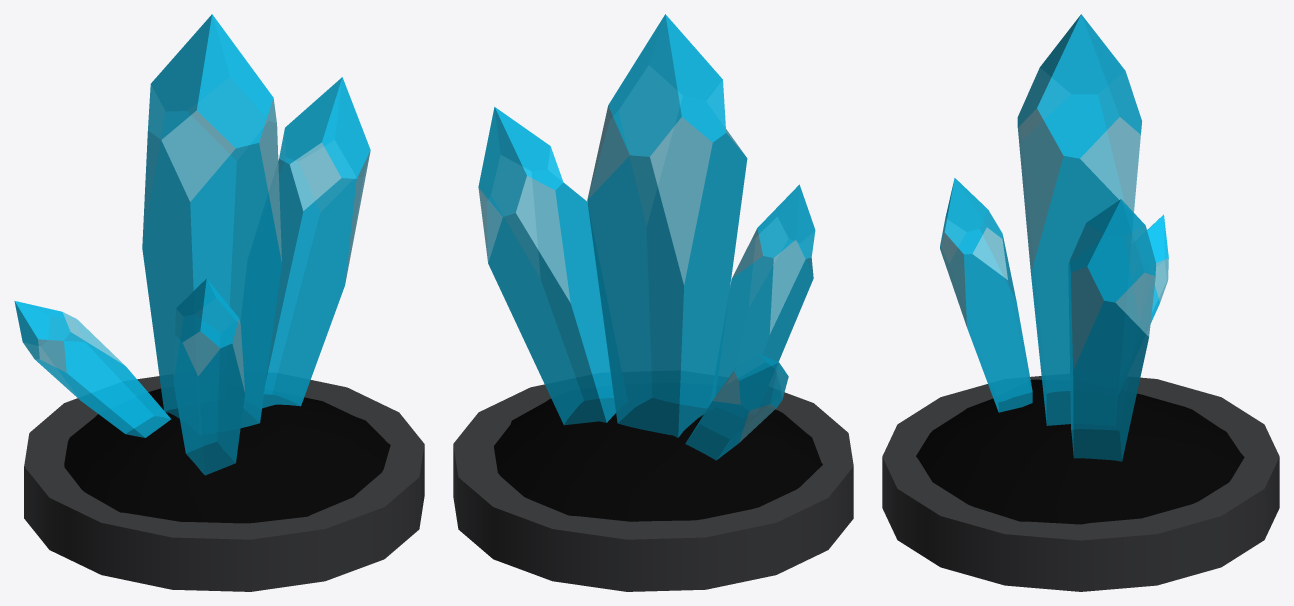
Rendered from Crystals_Blue.fbx.
3 renders of one model, left to right at view 1: azimuth 30°, elevation 25°; view 2: azimuth 150°, elevation 25°; view 3: azimuth 270°, elevation 25°, orthographic.
Parts seen in each view (by area): view 1: Crystals_Blue; view 2: Crystals_Blue; view 3: Crystals_Blue.
Part boxes in pixels (box(x1,y1,x2,y2)): Crystals_Blue: box(14, 14, 424, 591); Crystals_Blue: box(453, 14, 853, 591); Crystals_Blue: box(882, 14, 1279, 591).
Size of the model in its own units: 0.2472 by 0.3351 by 0.2472.
